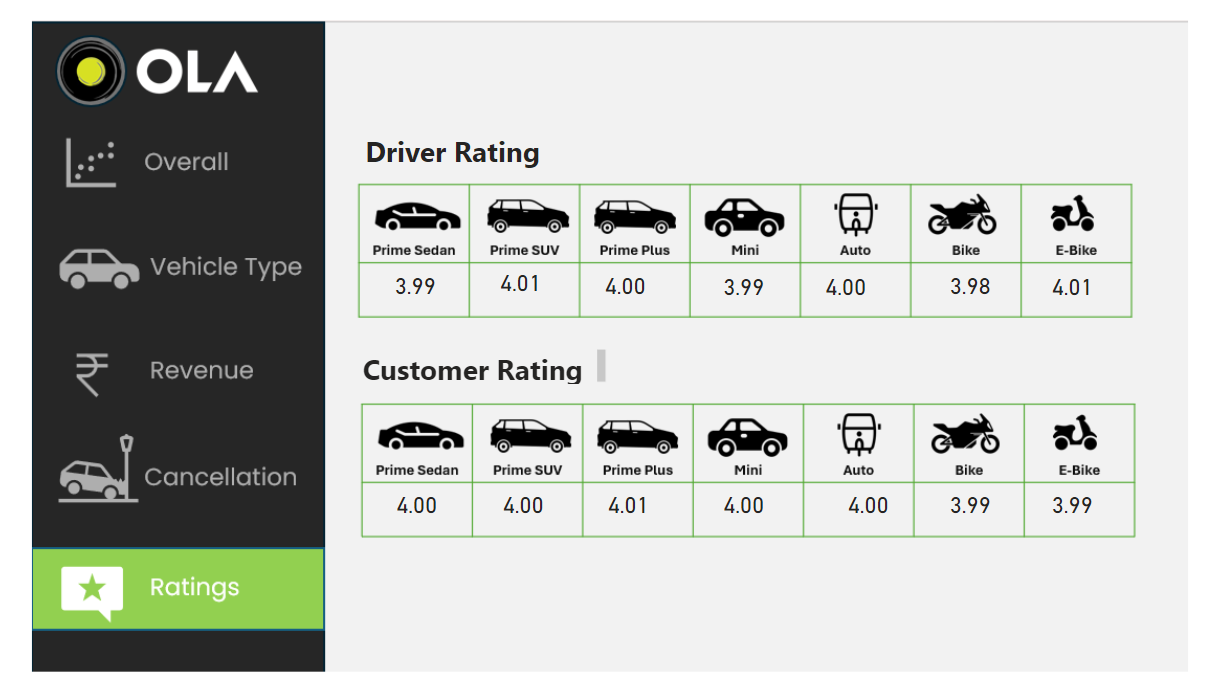

This screenshot's page, from the dashboard's own definition file:
{"tool":"powerbi","page":{"name":"Ratings","canvas":[1280,720],"ordinal":4},"visuals":[{"type":"actionButton","box":[90.7,243.4,278.4,79.5],"z":0},{"type":"actionButton","box":[90.7,337.2,278.4,79.5],"z":1000},{"type":"actionButton","box":[90.7,432.6,278.4,79.5],"z":2000},{"type":"actionButton","box":[90.7,550.4,278.4,79.5],"z":3000},{"type":"actionButton","box":[90.7,147.9,278.4,79.5],"z":4000},{"type":"actionButton","box":[90.7,147.9,278.4,79.5],"z":5000},{"type":"cardVisual","fields":{"Data":["Avg(July.Driver_Ratings)"]},"box":[404.8,261.9,97.4,60.6],"z":6000},{"type":"cardVisual","fields":{"Data":["Avg(July.Driver_Ratings)"]},"box":[502.2,255.4,103.9,75.8],"z":7000},{"type":"cardVisual","fields":{"Data":["Avg(July.Driver_Ratings)"]},"box":[606.1,261.9,97.4,60.6],"z":8000},{"type":"cardVisual","fields":{"Data":["Avg(July.Driver_Ratings)"]},"box":[718.7,264.1,97.4,60.6],"z":9000},{"type":"cardVisual","fields":{"Data":["Avg(July.Driver_Ratings)"]},"box":[816.1,264.1,97.4,60.6],"z":10000},{"type":"cardVisual","fields":{"Data":["Avg(July.Driver_Ratings)"]},"box":[935.1,261.9,97.4,60.6],"z":11000},{"type":"cardVisual","fields":{"Data":["Avg(July.Driver_Ratings)"]},"box":[1032.5,264.1,97.4,60.6],"z":12000},{"type":"cardVisual","fields":{"Data":["Avg(July.Customer_Rating)"]},"box":[406.9,471.9,97.4,60.6],"z":13000},{"type":"cardVisual","fields":{"Data":["Avg(July.Customer_Rating)"]},"box":[508.7,471.9,97.4,60.6],"z":14000},{"type":"cardVisual","fields":{"Data":["Avg(July.Customer_Rating)"]},"box":[608.3,471.9,97.4,60.6],"z":15000},{"type":"cardVisual","fields":{"Data":["Avg(July.Customer_Rating)"]},"box":[718.7,471.9,97.4,60.6],"z":16000},{"type":"cardVisual","fields":{"Data":["Avg(July.Customer_Rating)"]},"box":[837.7,471.9,97.4,60.6],"z":17000},{"type":"cardVisual","fields":{"Data":["Avg(July.Customer_Rating)"]},"box":[935.1,471.9,97.4,60.6],"z":18000},{"type":"cardVisual","fields":{"Data":["Avg(July.Customer_Rating)"]},"box":[1032.5,471.9,97.4,60.6],"z":18001},{"type":"textbox","box":[400.5,147.2,203.5,52],"z":18002},{"type":"textbox","box":[398.3,355,242.4,43.3],"z":18003}]}

Visuals, with their boxes on the page's 1280x720 design canvas (x1, y1, x2, y2). These are canvas units, not pixel positions in the 1210x691 screenshot, which may show the page scaled, cropped or inside an application window:
actionButton: bbox=(91, 243, 369, 323)
actionButton: bbox=(91, 337, 369, 417)
actionButton: bbox=(91, 433, 369, 512)
actionButton: bbox=(91, 550, 369, 630)
actionButton: bbox=(91, 148, 369, 227)
actionButton: bbox=(91, 148, 369, 227)
cardVisual - Avg(July.Driver_Ratings): bbox=(405, 262, 502, 322)
cardVisual - Avg(July.Driver_Ratings): bbox=(502, 255, 606, 331)
cardVisual - Avg(July.Driver_Ratings): bbox=(606, 262, 704, 322)
cardVisual - Avg(July.Driver_Ratings): bbox=(719, 264, 816, 325)
cardVisual - Avg(July.Driver_Ratings): bbox=(816, 264, 914, 325)
cardVisual - Avg(July.Driver_Ratings): bbox=(935, 262, 1032, 322)
cardVisual - Avg(July.Driver_Ratings): bbox=(1032, 264, 1130, 325)
cardVisual - Avg(July.Customer_Rating): bbox=(407, 472, 504, 532)
cardVisual - Avg(July.Customer_Rating): bbox=(509, 472, 606, 532)
cardVisual - Avg(July.Customer_Rating): bbox=(608, 472, 706, 532)
cardVisual - Avg(July.Customer_Rating): bbox=(719, 472, 816, 532)
cardVisual - Avg(July.Customer_Rating): bbox=(838, 472, 935, 532)
cardVisual - Avg(July.Customer_Rating): bbox=(935, 472, 1032, 532)
cardVisual - Avg(July.Customer_Rating): bbox=(1032, 472, 1130, 532)
textbox: bbox=(400, 147, 604, 199)
textbox: bbox=(398, 355, 641, 398)
